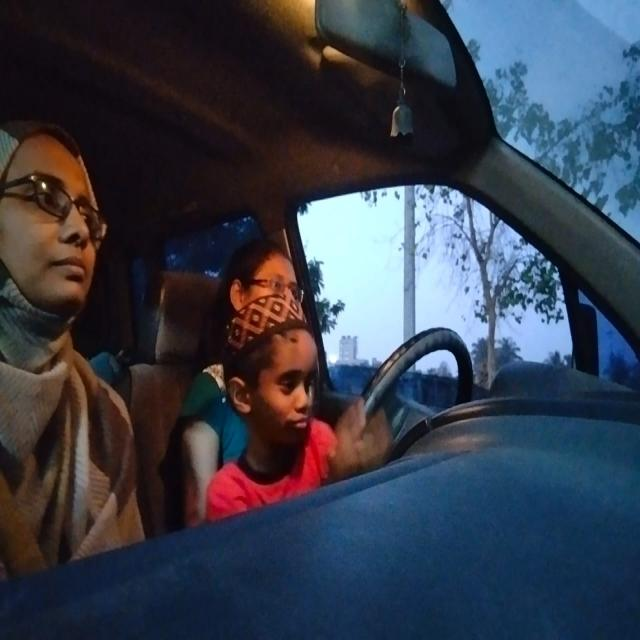child: (225, 295, 333, 455)
person: (0, 122, 111, 360), (222, 235, 316, 337)
